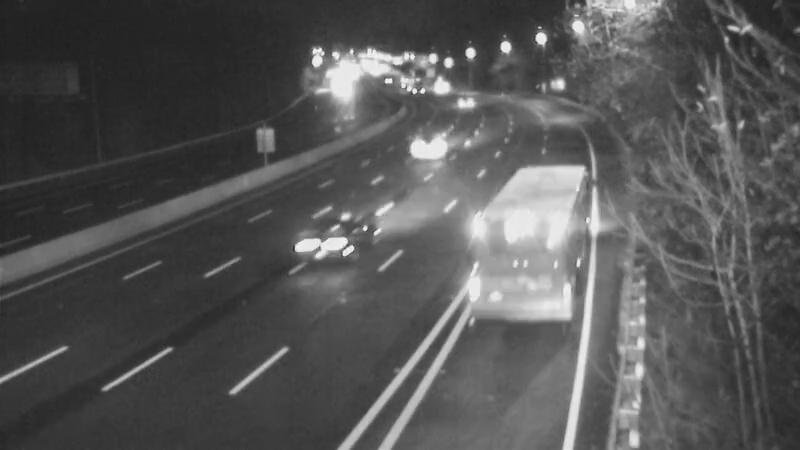vehicle: (294, 204, 374, 284), (493, 221, 573, 301), (440, 82, 490, 132), (413, 106, 463, 156)
